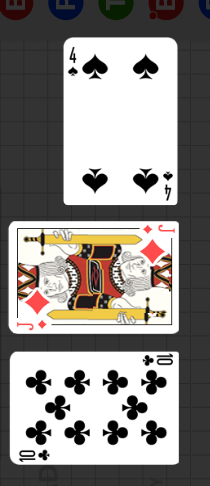10C: (18, 447, 52, 462)
4S: (67, 45, 80, 79), (162, 169, 175, 202)
